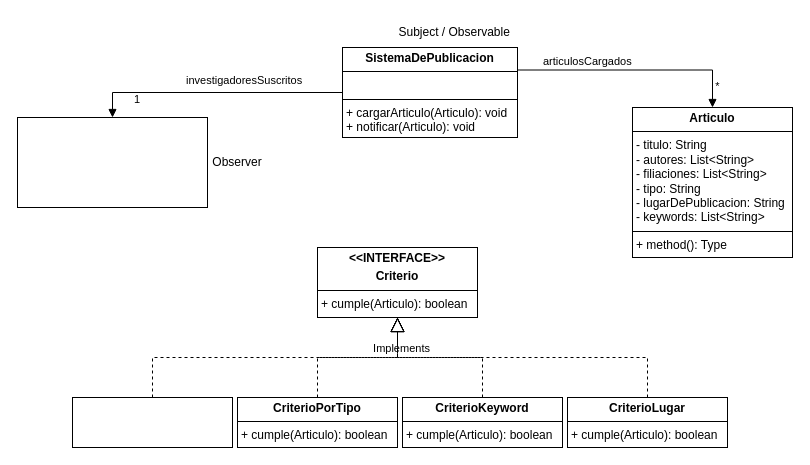
Image size: 810x465. Some labels were removed from this diagram. Each missing label, with the centre of its shape:
"CriterioPorAutor + cumple(Articulo): boolean" goes at point (152, 422).
"Investigador + update(Articulo): void + cumpleCriterio(Articulo): boolean" goes at point (112, 162).
